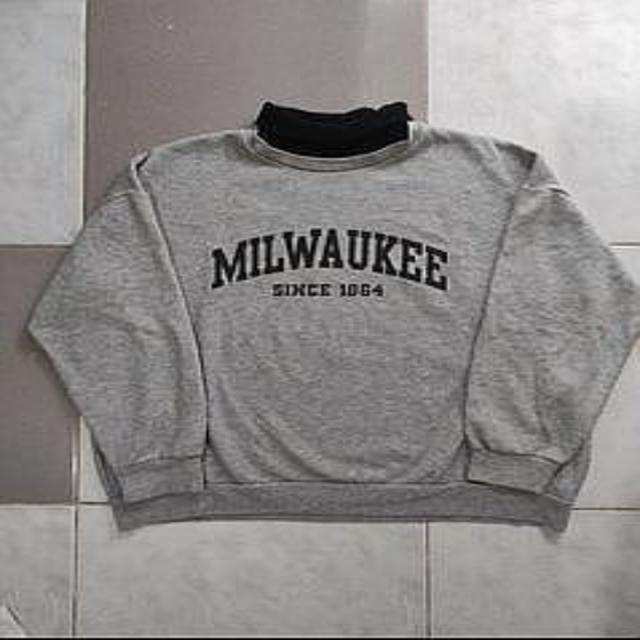T_SHIRT: (19, 99, 640, 531)
